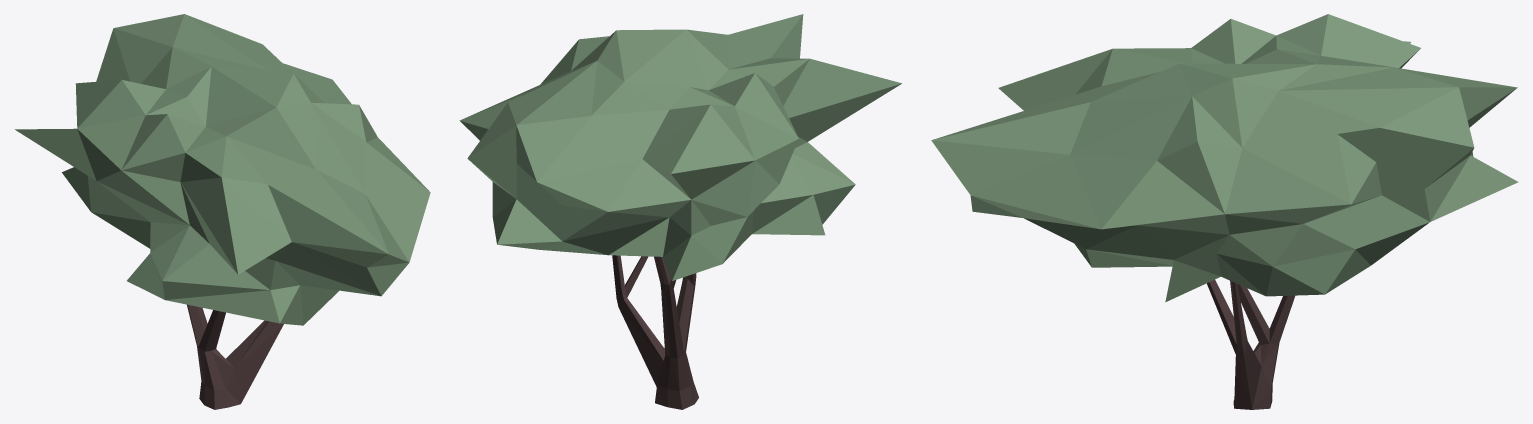
File: mesquite.dae
The picture shows the model from 3 angles, left to right: view 1: azimuth 30°, elevation 25°; view 2: azimuth 150°, elevation 25°; view 3: azimuth 270°, elevation 25°; orthographic projection. The views are drawn at different scales.
Parts seen in each view (by area): view 1: Cube_001, Cube; view 2: Cube_001, Cube; view 3: Cube_001, Cube.
Part boxes in pixels (x1=…): Cube_001: x1=15, y1=14, x2=430, y2=325; Cube: x1=187, y1=304, x2=283, y2=409; Cube_001: x1=459, y1=14, x2=901, y2=280; Cube: x1=612, y1=255, x2=698, y2=409; Cube_001: x1=931, y1=14, x2=1518, y2=302; Cube: x1=1207, y1=279, x2=1294, y2=409.
Bounding box in the file's own units: 4.74 × 7.35 × 4.95.
